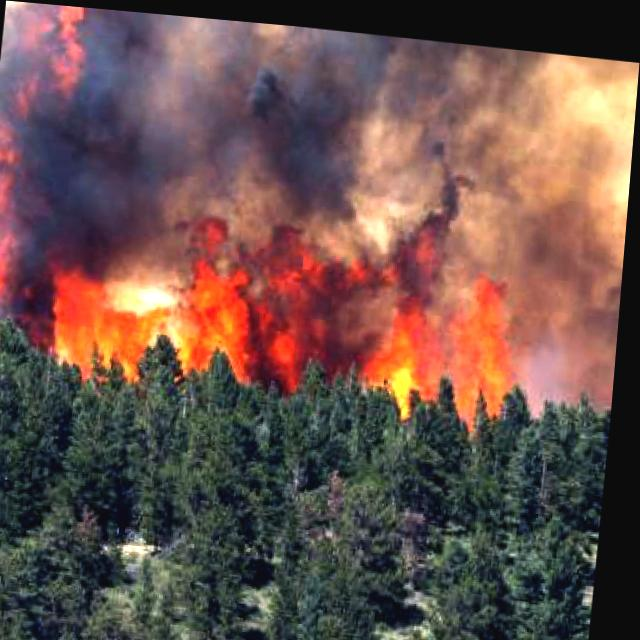Fire: (284, 243, 405, 371), (51, 239, 171, 368), (190, 219, 269, 379), (456, 273, 528, 398), (377, 276, 441, 400), (254, 258, 310, 391), (2, 233, 59, 335), (0, 253, 5, 320)
